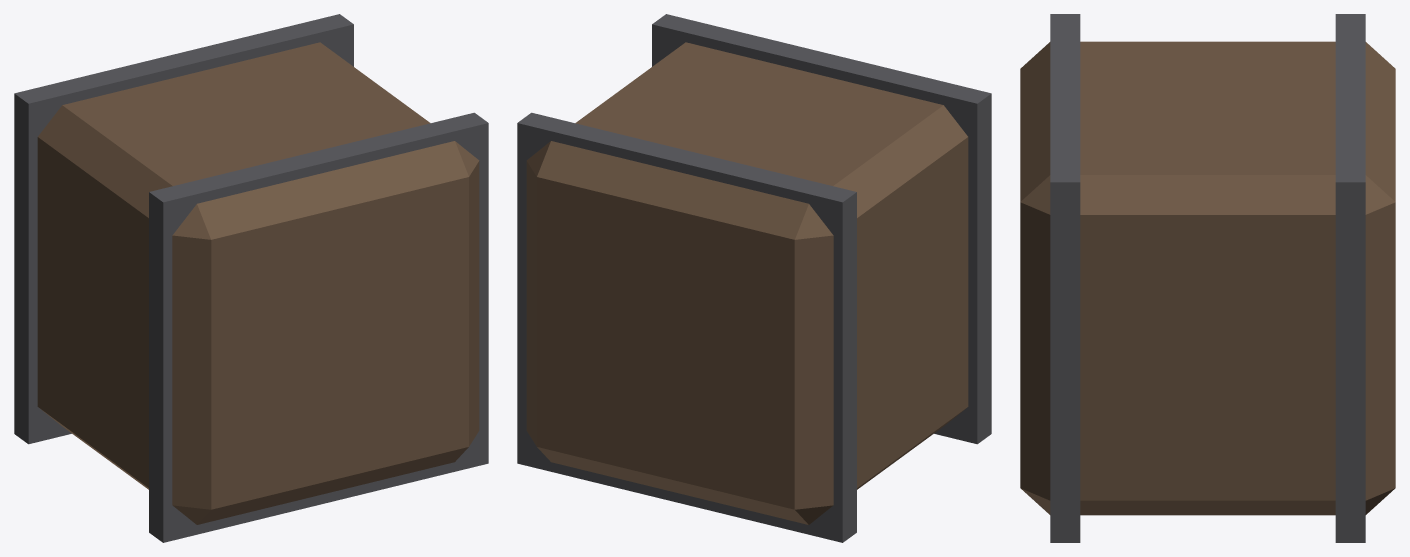
File: beam.glb
3 renders of one model, left to right at view 1: azimuth 30°, elevation 25°; view 2: azimuth 150°, elevation 25°; view 3: azimuth 270°, elevation 25°, orthographic. The views are drawn at different scales.
Parts seen in each view (by area): view 1: beam; view 2: beam; view 3: beam.
Boxes of the visible parts, x1,y1,x2,y2 form: beam: (14,14,488,542); beam: (517,14,991,542); beam: (1020,14,1395,542).
Bounding box in the file's own units: 1.06 × 1.06 × 1.
